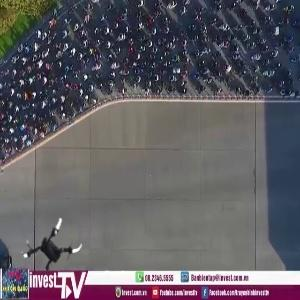drone: (17, 215, 85, 283)
